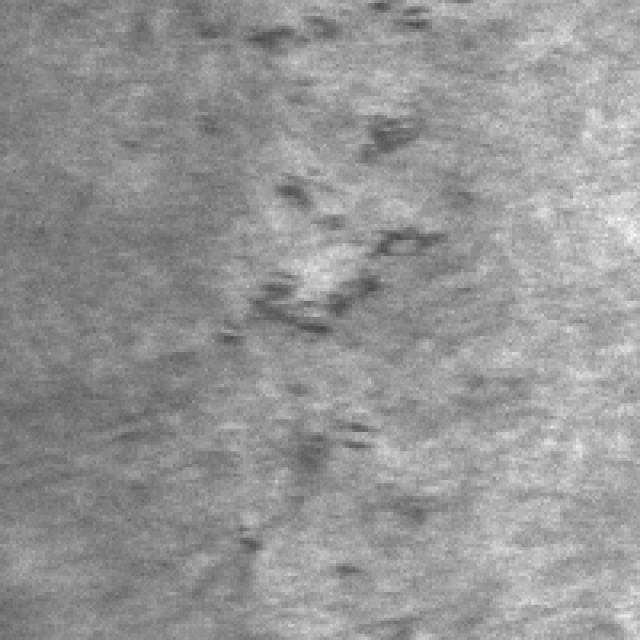rolled-in_scale: (224, 0, 435, 342), (221, 374, 435, 582)
